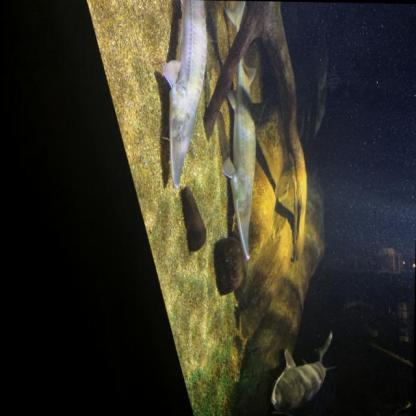fish: (219, 0, 264, 262), (160, 0, 208, 190)
shark: (268, 329, 338, 415)
